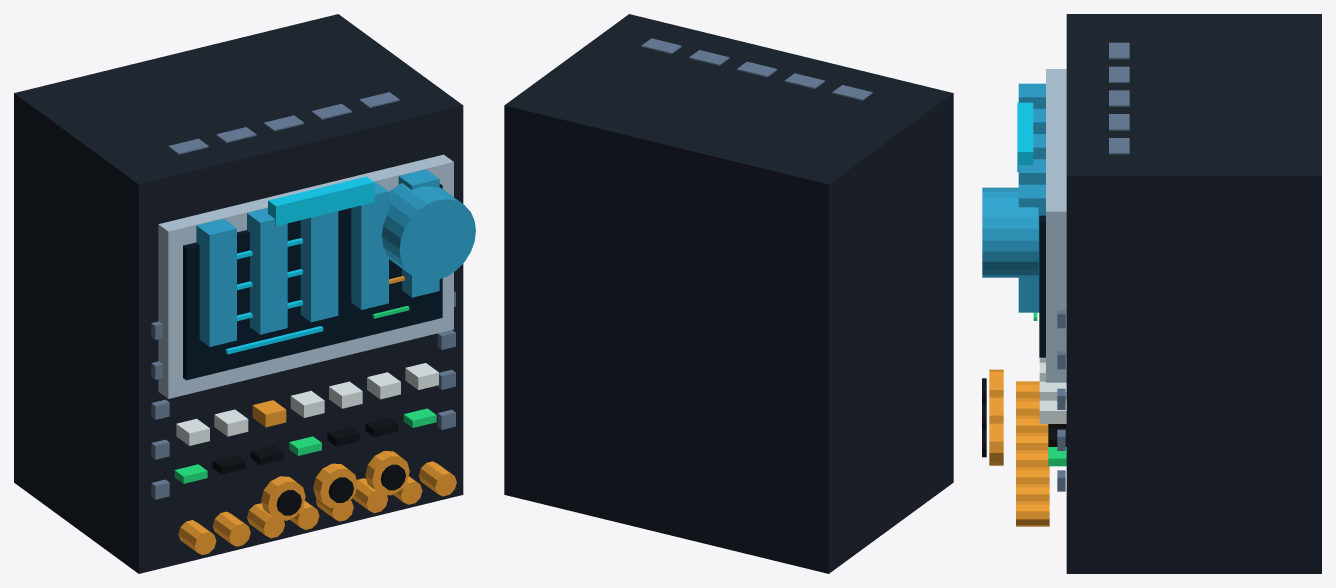
Rendered from 44_L89_WaterTankLevelSensorArray.fbx.
The picture shows the model from 3 angles, left to right: view 1: azimuth 30°, elevation 25°; view 2: azimuth 150°, elevation 25°; view 3: azimuth 270°, elevation 25°; orthographic projection. The views are drawn at different scales.
Visible parts, largest first — view 1: L87_WaterTankLevelSensorArray_Part_0000, L87_WaterTankLevelSensorArray_Part_0011, L87_WaterTankLevelSensorArray_Part_0002, L87_WaterTankLevelSensorArray_Part_0001, L87_WaterTankLevelSensorArray_Part_0009, L87_WaterTankLevelSensorArray_Part_0004, L87_WaterTankLevelSensorArray_Part_0006, L87_WaterTankLevelSensorArray_Part_0008, L87_WaterTankLevelSensorArray_Part_0010, L87_WaterTankLevelSensorArray_Part_0007, L87_WaterTankLevelSensorArray_Part_0005, L87_WaterTankLevelSensorArray_Part_0003 (+3 smaller); view 2: L87_WaterTankLevelSensorArray_Part_0000, L87_WaterTankLevelSensorArray_Part_0008; view 3: L87_WaterTankLevelSensorArray_Part_0000, L87_WaterTankLevelSensorArray_Part_0001, L87_WaterTankLevelSensorArray_Part_0009, L87_WaterTankLevelSensorArray_Part_0004, L87_WaterTankLevelSensorArray_Part_0011, L87_WaterTankLevelSensorArray_Part_0008, L87_WaterTankLevelSensorArray_Part_0006, L87_WaterTankLevelSensorArray_Part_0010, L87_WaterTankLevelSensorArray_Part_0002, L87_WaterTankLevelSensorArray_Part_0016.
Part boxes in pixels (box(x1,y1,x2,y2)): L87_WaterTankLevelSensorArray_Part_0000: box(14, 14, 463, 573); L87_WaterTankLevelSensorArray_Part_0011: box(196, 169, 439, 346); L87_WaterTankLevelSensorArray_Part_0002: box(183, 183, 442, 380); L87_WaterTankLevelSensorArray_Part_0001: box(158, 154, 453, 398); L87_WaterTankLevelSensorArray_Part_0009: box(382, 183, 475, 280); L87_WaterTankLevelSensorArray_Part_0004: box(178, 276, 456, 554); L87_WaterTankLevelSensorArray_Part_0006: box(176, 363, 438, 445); L87_WaterTankLevelSensorArray_Part_0008: box(151, 92, 455, 499); L87_WaterTankLevelSensorArray_Part_0010: box(268, 176, 374, 225); L87_WaterTankLevelSensorArray_Part_0007: box(212, 417, 398, 474); L87_WaterTankLevelSensorArray_Part_0005: box(174, 306, 436, 483); L87_WaterTankLevelSensorArray_Part_0003: box(225, 238, 323, 354); L87_WaterTankLevelSensorArray_Part_0000: box(504, 14, 953, 573); L87_WaterTankLevelSensorArray_Part_0008: box(641, 38, 872, 100); L87_WaterTankLevelSensorArray_Part_0000: box(1066, 14, 1321, 573); L87_WaterTankLevelSensorArray_Part_0001: box(1046, 69, 1066, 382); L87_WaterTankLevelSensorArray_Part_0009: box(982, 187, 1038, 277); L87_WaterTankLevelSensorArray_Part_0004: box(1016, 381, 1049, 526); L87_WaterTankLevelSensorArray_Part_0011: box(1018, 83, 1045, 312); L87_WaterTankLevelSensorArray_Part_0008: box(1057, 42, 1129, 491); L87_WaterTankLevelSensorArray_Part_0006: box(1039, 357, 1066, 423); L87_WaterTankLevelSensorArray_Part_0010: box(1017, 102, 1033, 172); L87_WaterTankLevelSensorArray_Part_0002: box(1039, 215, 1045, 357); L87_WaterTankLevelSensorArray_Part_0016: box(989, 421, 1003, 465).
Bounding box in the file's own units: 112 × 129 × 99.6.
